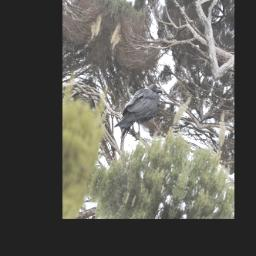Crow: (111, 72, 165, 151)
